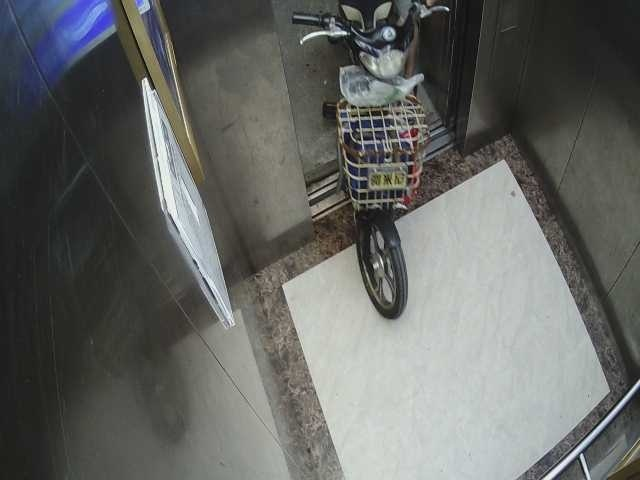emotor: (292, 2, 445, 326)
